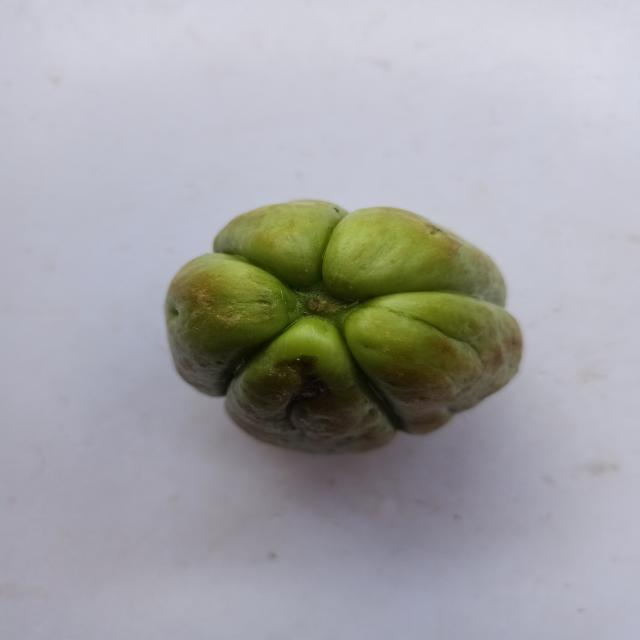Chayote: (144, 176, 568, 489)
